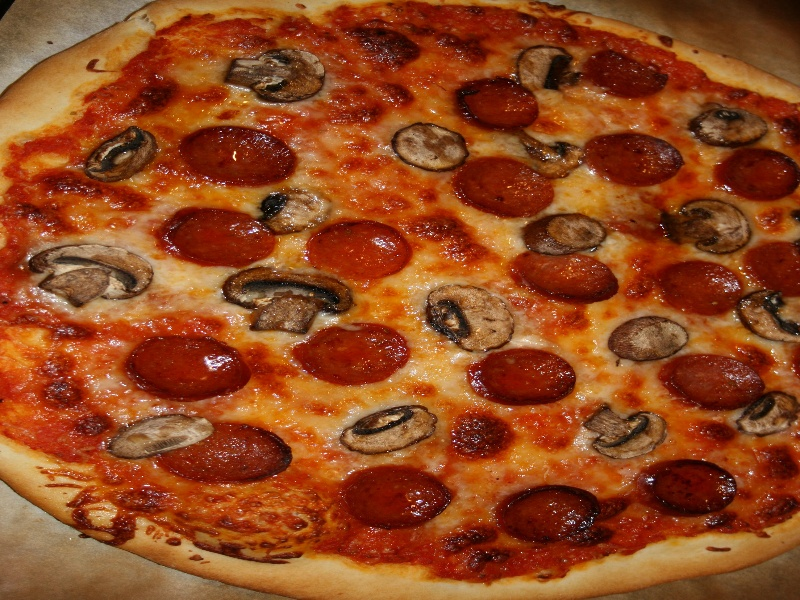champignon: (219, 263, 357, 337), (24, 237, 159, 311), (417, 281, 533, 350), (574, 400, 676, 466), (656, 191, 752, 261), (221, 47, 335, 105), (106, 408, 214, 464), (336, 398, 440, 455), (86, 115, 162, 191), (603, 314, 697, 372), (684, 103, 770, 155), (517, 40, 574, 100), (731, 389, 800, 438)
